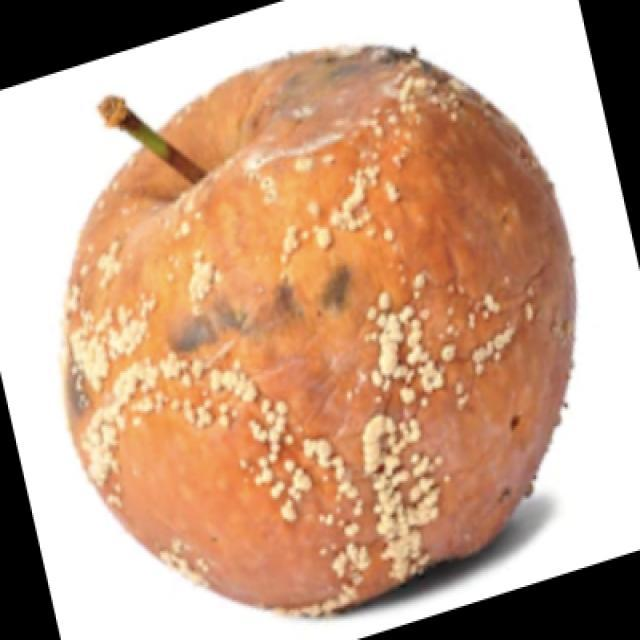Rotten: (76, 43, 596, 592)
